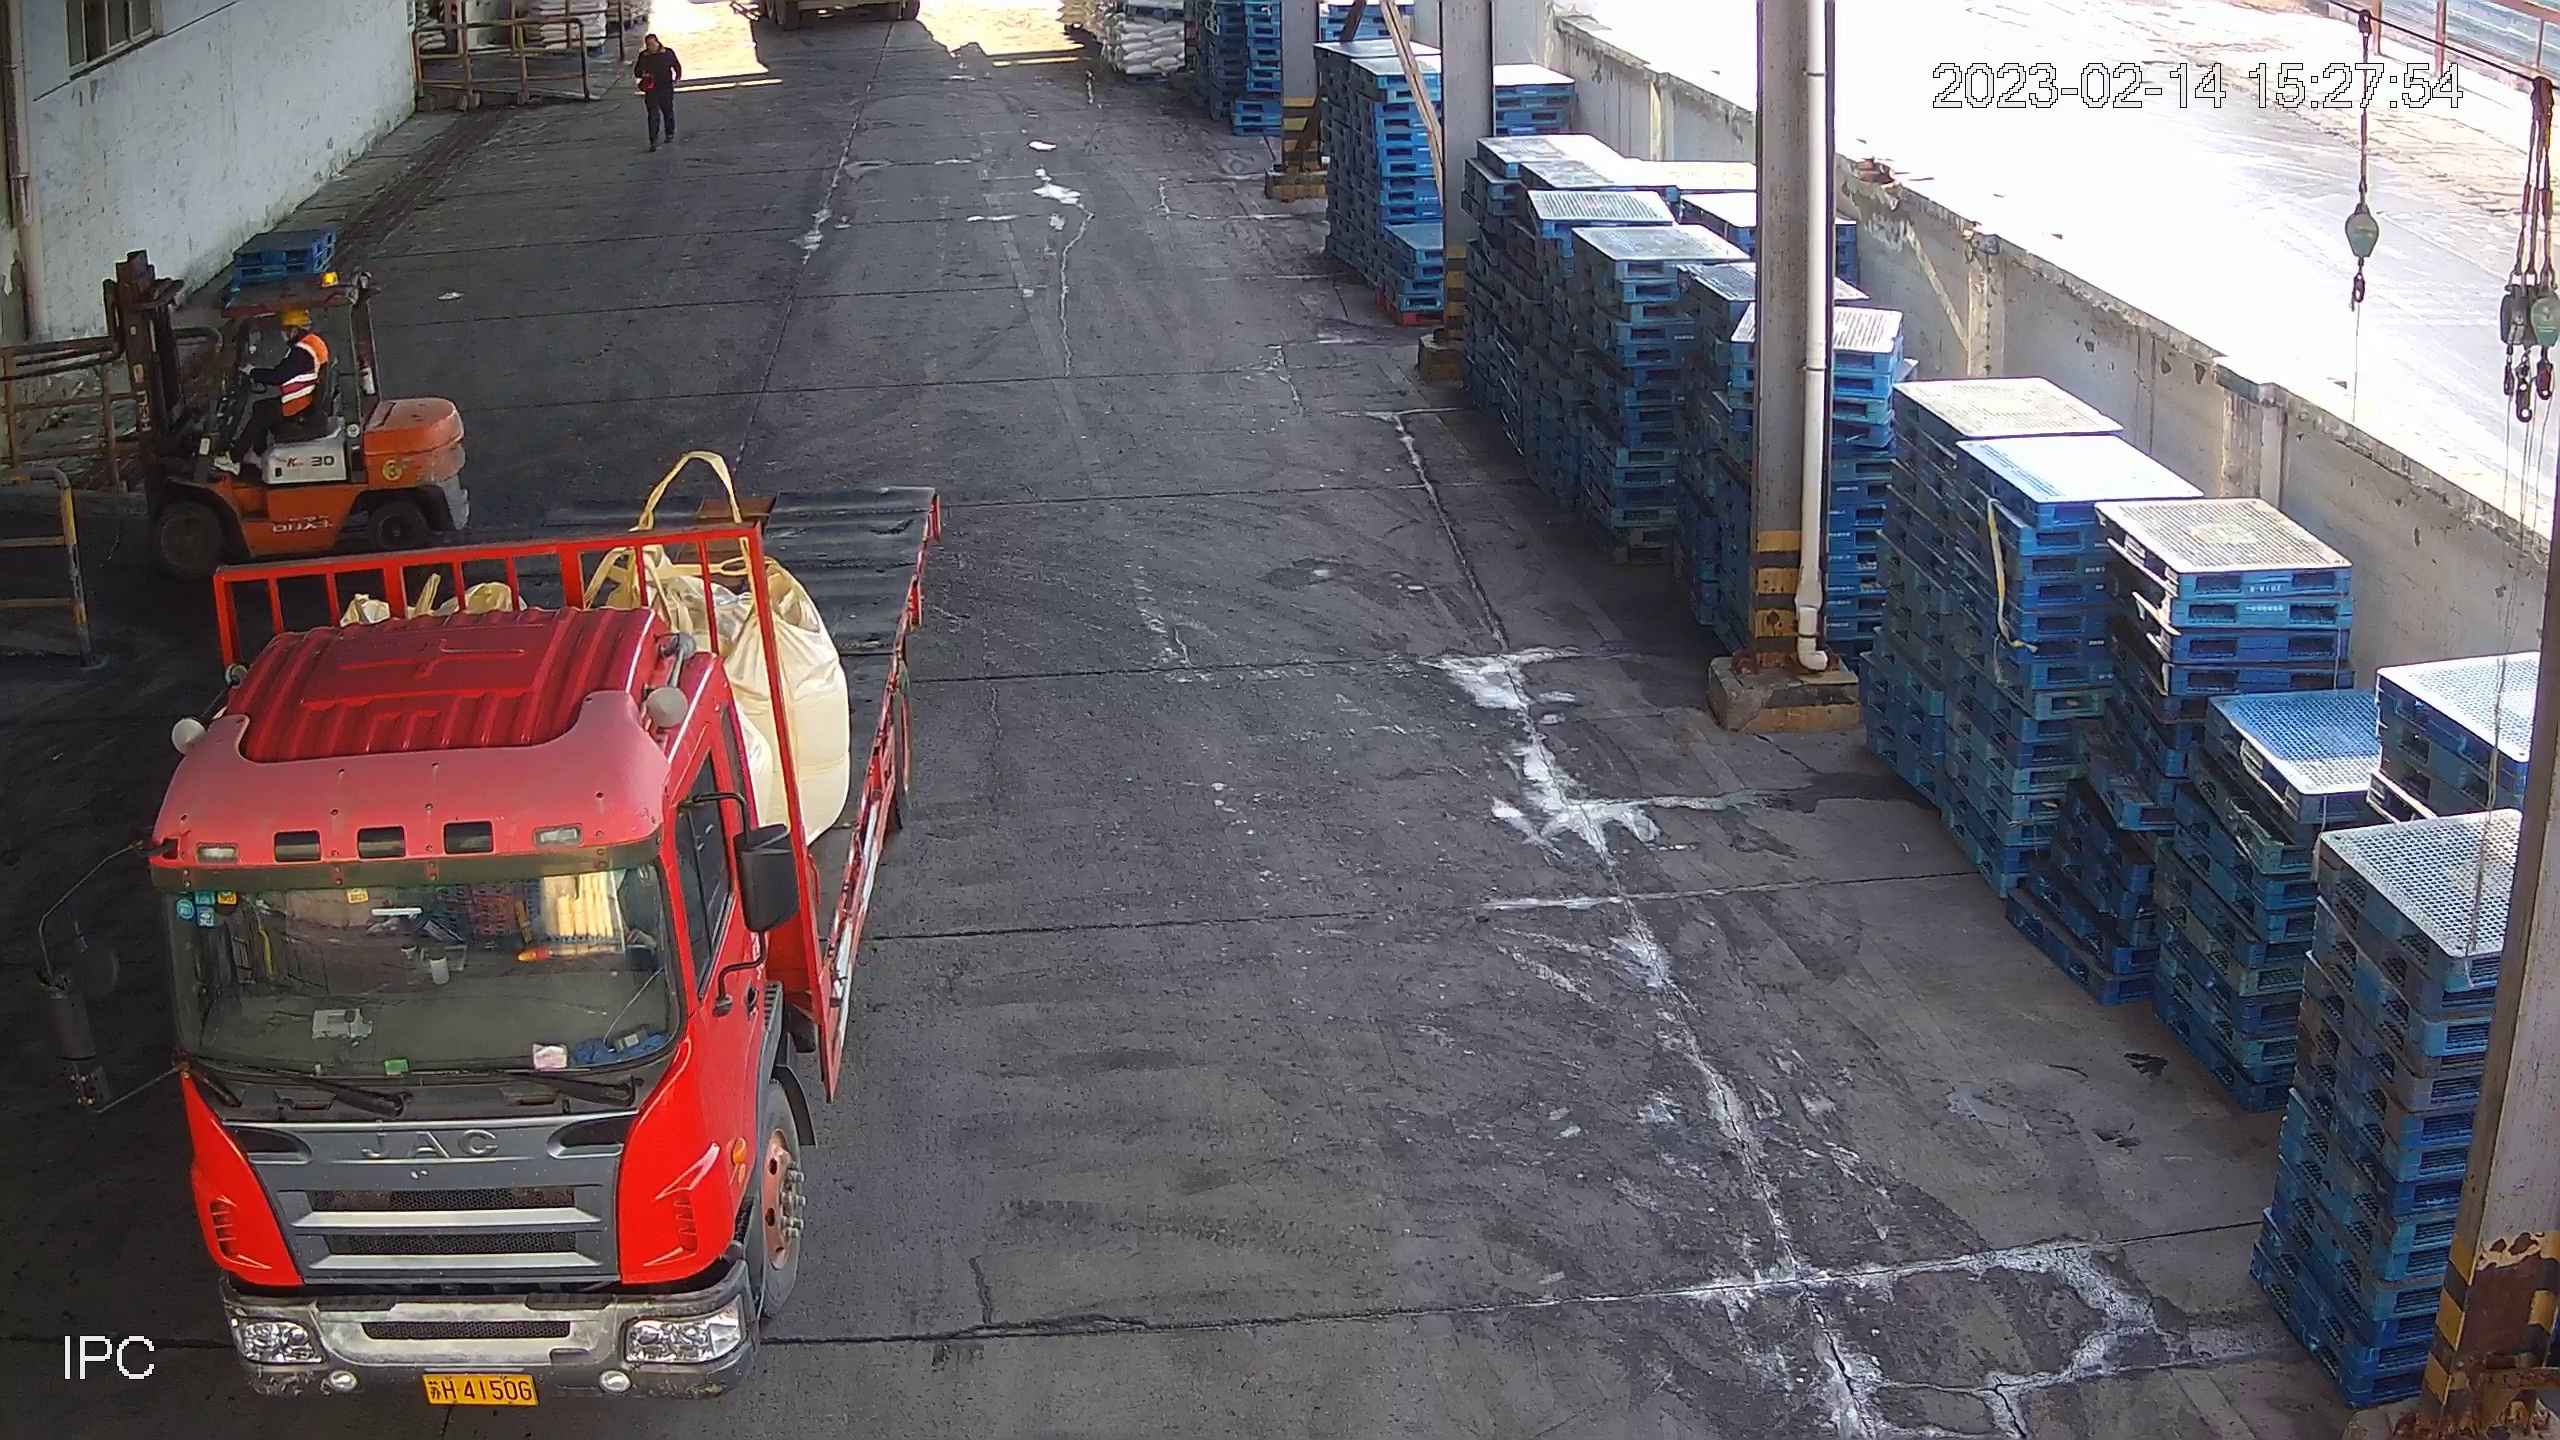head: (261, 308, 329, 379), (636, 35, 678, 67)
helmet: (281, 311, 315, 328), (638, 72, 656, 91)
people: (205, 306, 339, 491), (634, 34, 683, 153)
truck: (30, 481, 945, 1415)
